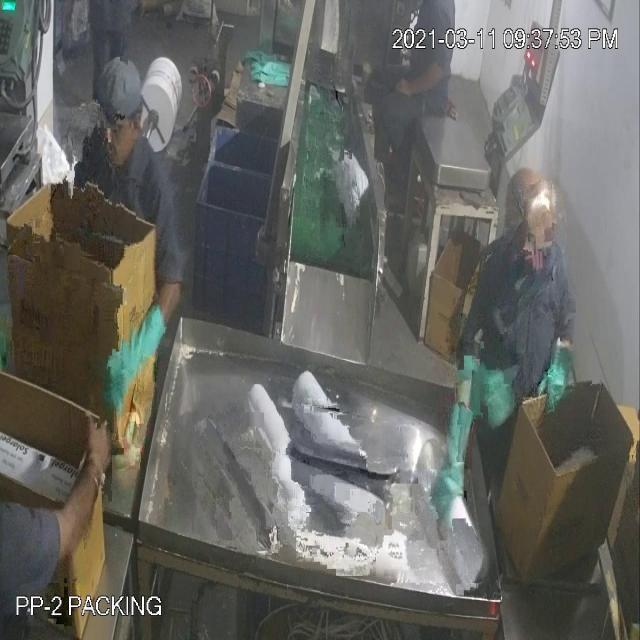No_Gloves: (394, 60, 448, 94)
